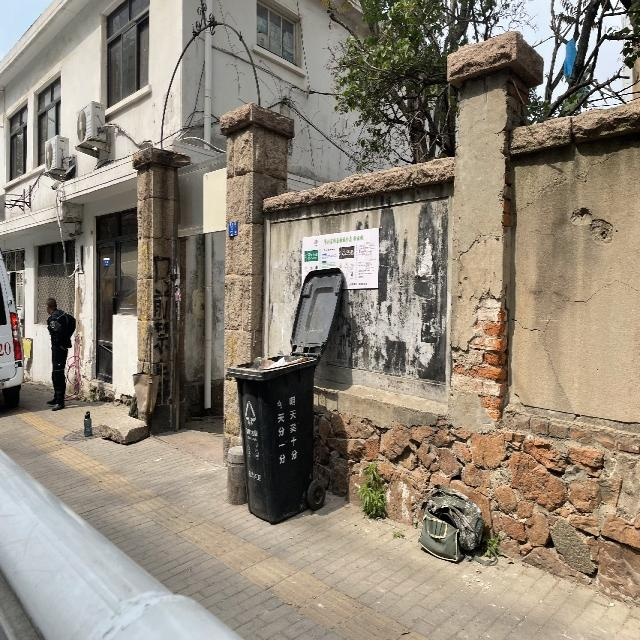overflow: (225, 351, 321, 523)
